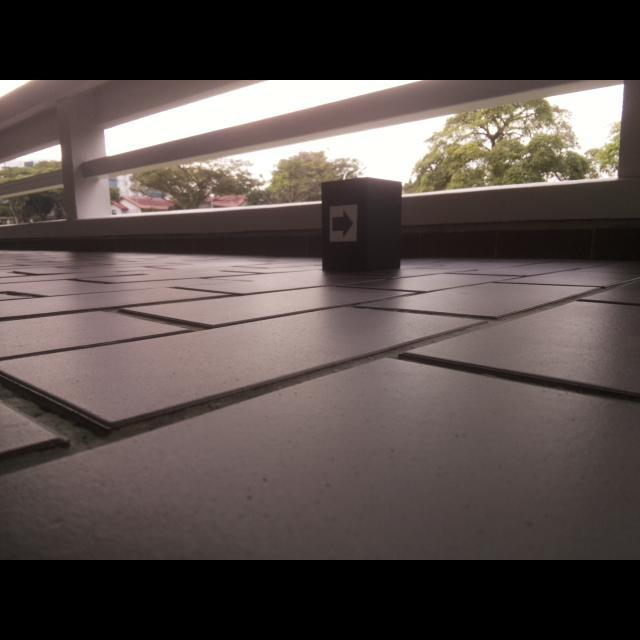RIGHT: (332, 208, 355, 239)
